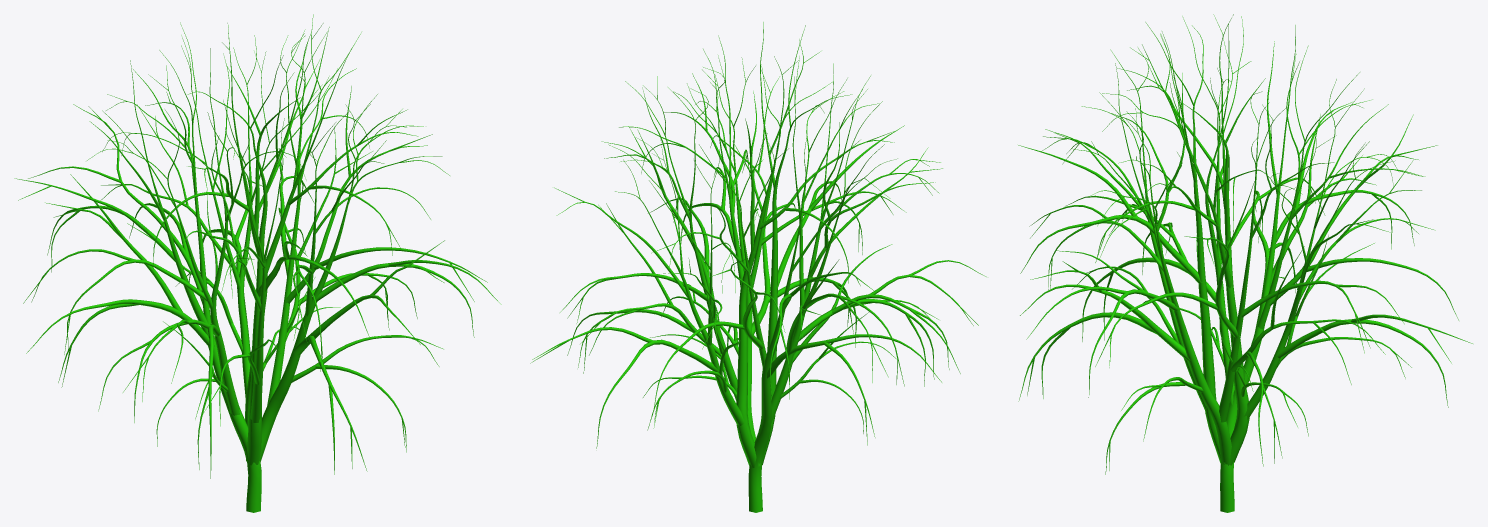
Rendered from tree.obj.
3 views of the same model, side by side, from view 1: azimuth 30°, elevation 25°; view 2: azimuth 150°, elevation 25°; view 3: azimuth 270°, elevation 25° (orthographic). The views are drawn at different scales.
Parts seen in each view (by area): view 1: tree; view 2: tree; view 3: tree.
Boxes of the visible parts, box(x1,y1,x2,y2) form: tree: box(14, 14, 501, 512); tree: box(530, 22, 986, 512); tree: box(1018, 14, 1472, 512).
Size of the model in its own units: 5.41 by 6.48 by 5.47.
